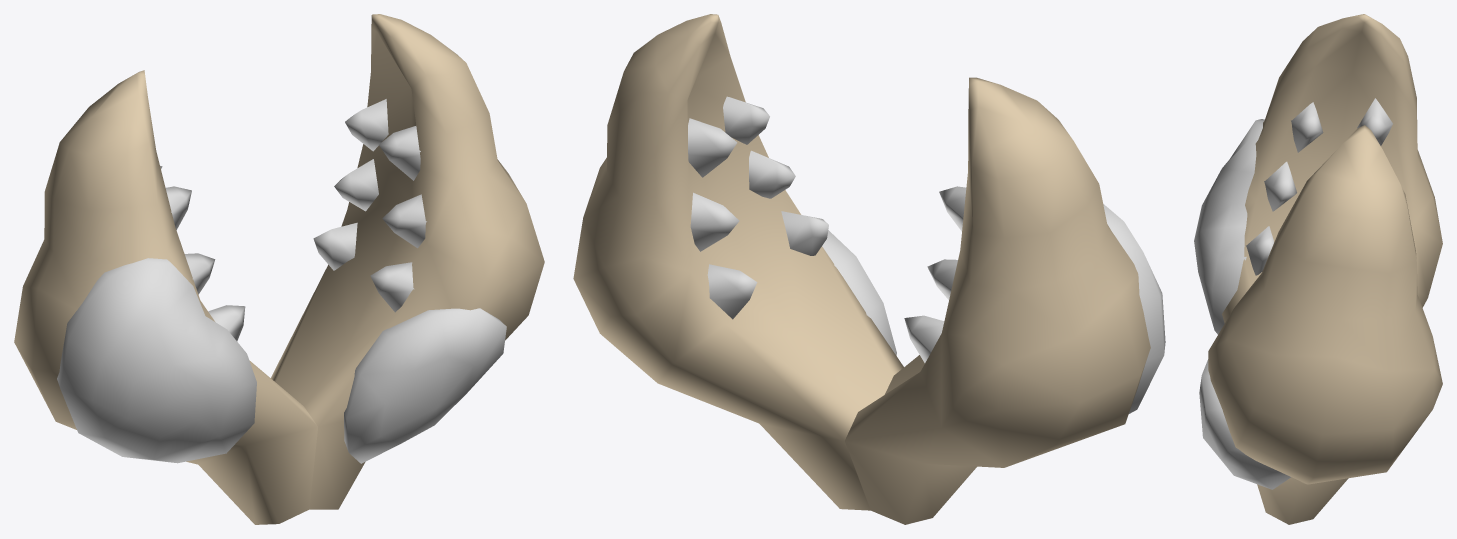
Rendered from S12_Reptile06_L2_Horn.glb.
3 renders of one model, left to right at view 1: azimuth 30°, elevation 25°; view 2: azimuth 150°, elevation 25°; view 3: azimuth 270°, elevation 25°, orthographic. The views are drawn at different scales.
Parts seen in each view (by area): view 1: S12_Reptile06_L2_Horn__Horn_R__surface1__lod0, S12_Reptile06_L2_Horn__Horn_L__surface0__lod0; view 2: S12_Reptile06_L2_Horn__Horn_R__surface1__lod0, S12_Reptile06_L2_Horn__Horn_L__surface0__lod0; view 3: S12_Reptile06_L2_Horn__Horn_R__surface1__lod0, S12_Reptile06_L2_Horn__Horn_L__surface0__lod0.
Part boxes in pixels (x1=…): S12_Reptile06_L2_Horn__Horn_R__surface1__lod0: x1=271, y1=14, x2=544, y2=509; S12_Reptile06_L2_Horn__Horn_L__surface0__lod0: x1=14, y1=70, x2=317, y2=524; S12_Reptile06_L2_Horn__Horn_R__surface1__lod0: x1=573, y1=14, x2=903, y2=510; S12_Reptile06_L2_Horn__Horn_L__surface0__lod0: x1=845, y1=77, x2=1165, y2=524; S12_Reptile06_L2_Horn__Horn_R__surface1__lod0: x1=1199, y1=125, x2=1442, y2=524; S12_Reptile06_L2_Horn__Horn_L__surface0__lod0: x1=1194, y1=14, x2=1442, y2=334.
Bounding box in the file's own units: 0.6197 × 0.5318 × 0.2761.
